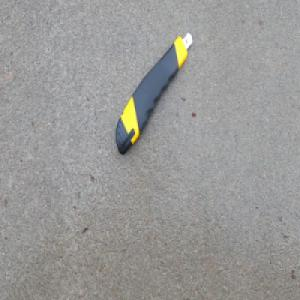Cutter: (115, 31, 193, 157)
